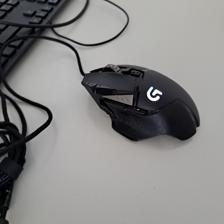mouse: (80, 62, 201, 144)
